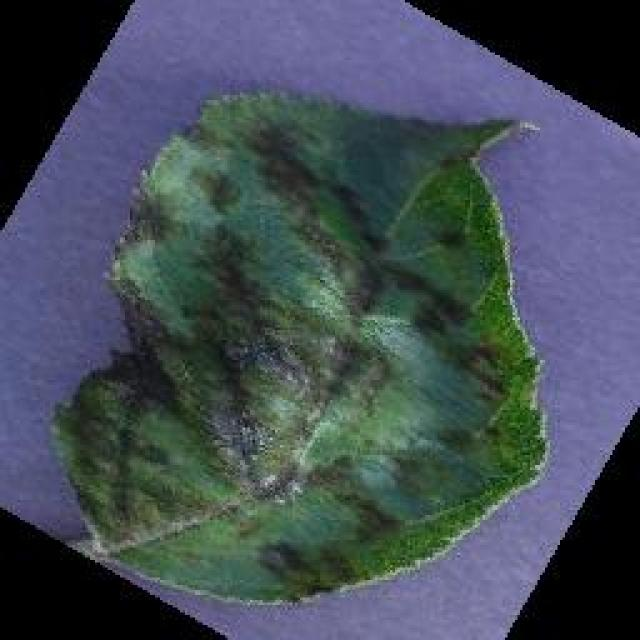apple scab disease: (48, 85, 552, 605)
